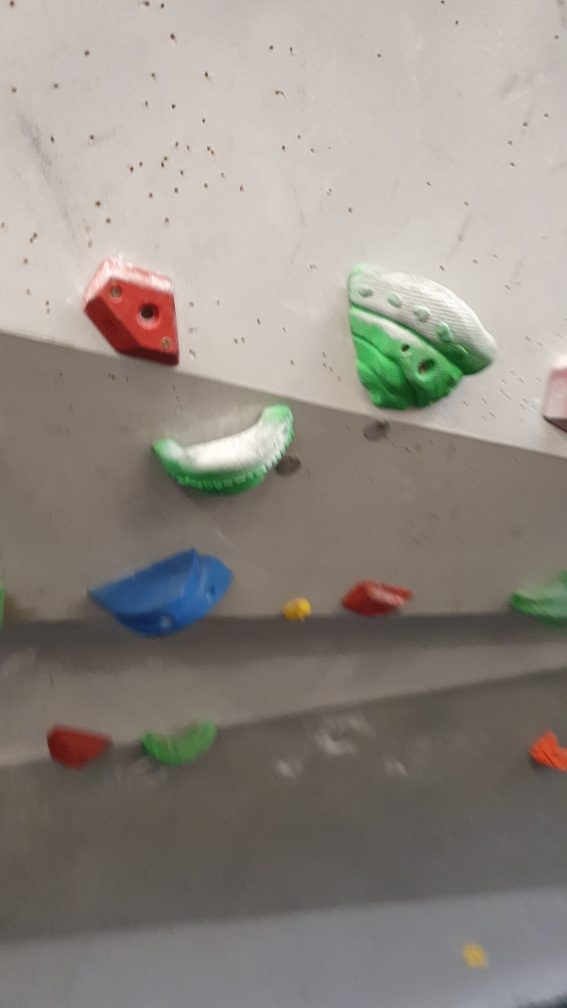Crimp: (80, 254, 186, 375), (340, 573, 415, 620)
Hand Start: (356, 416, 396, 445), (270, 452, 305, 482)
Jug: (342, 260, 501, 414), (144, 398, 297, 511)
Pinch: (87, 547, 235, 637)
